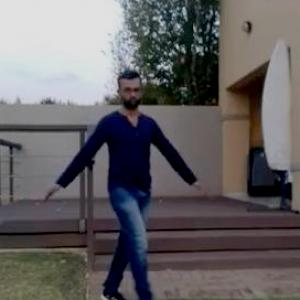land: (49, 76, 193, 299)
